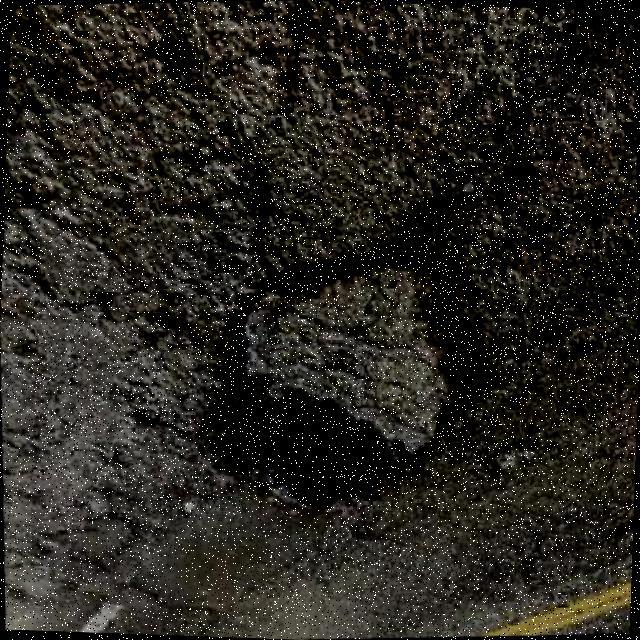Pothole: (198, 240, 481, 509)
